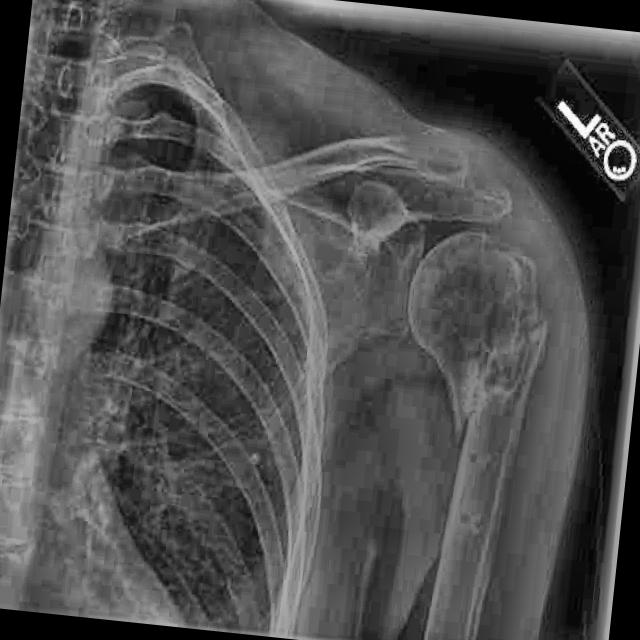shoulder fracture: (421, 246, 575, 464)
